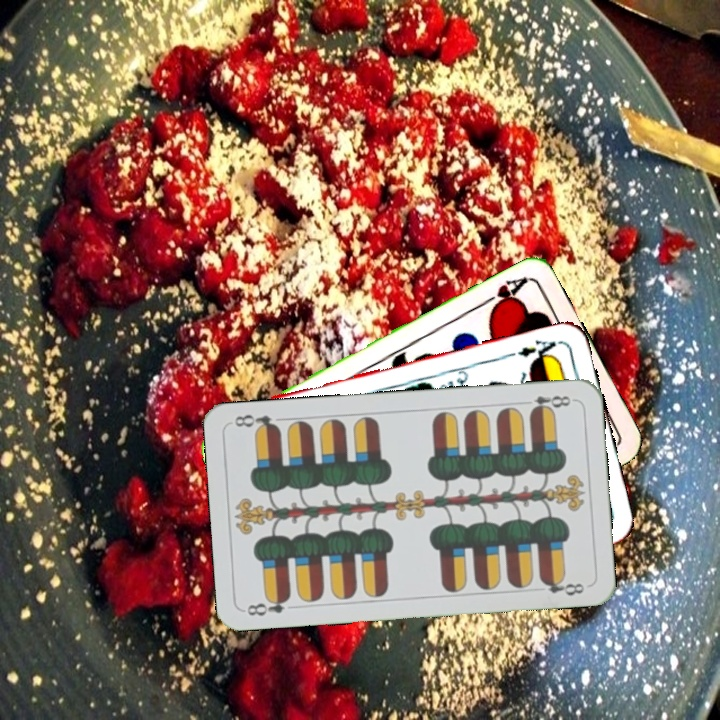E8: (517, 391, 577, 416), (243, 592, 293, 619)
EA: (505, 336, 563, 365)
HA: (477, 272, 531, 316)
